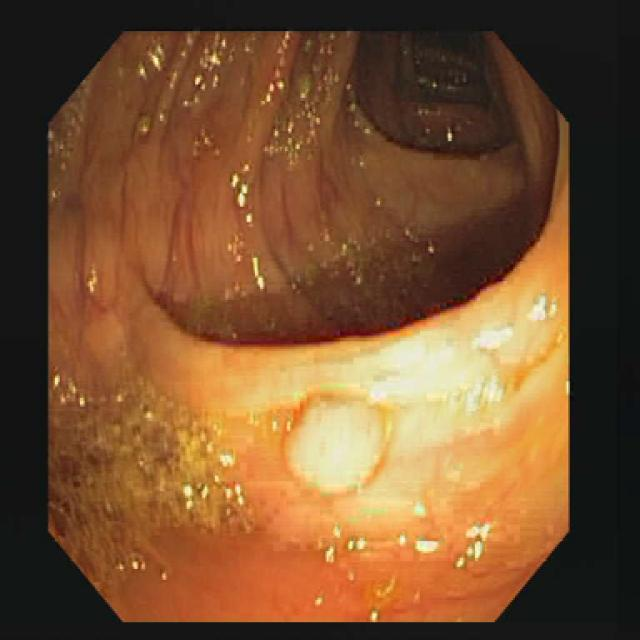tumor: (287, 393, 392, 491)
